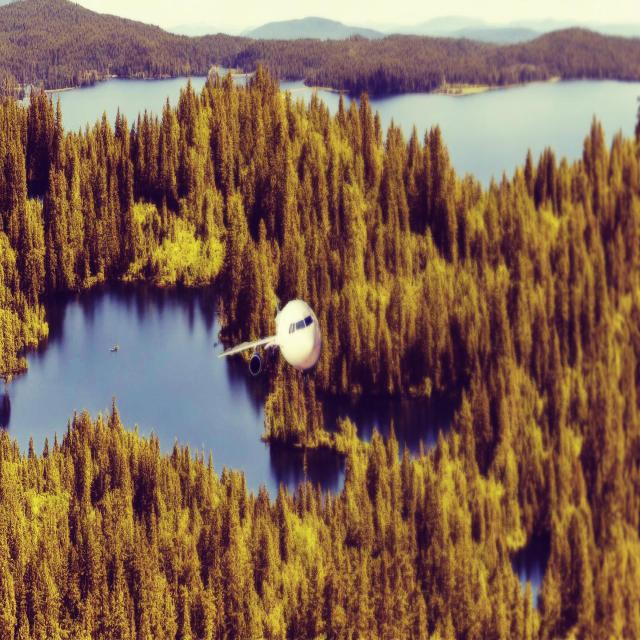airplane: (217, 296, 322, 376)
